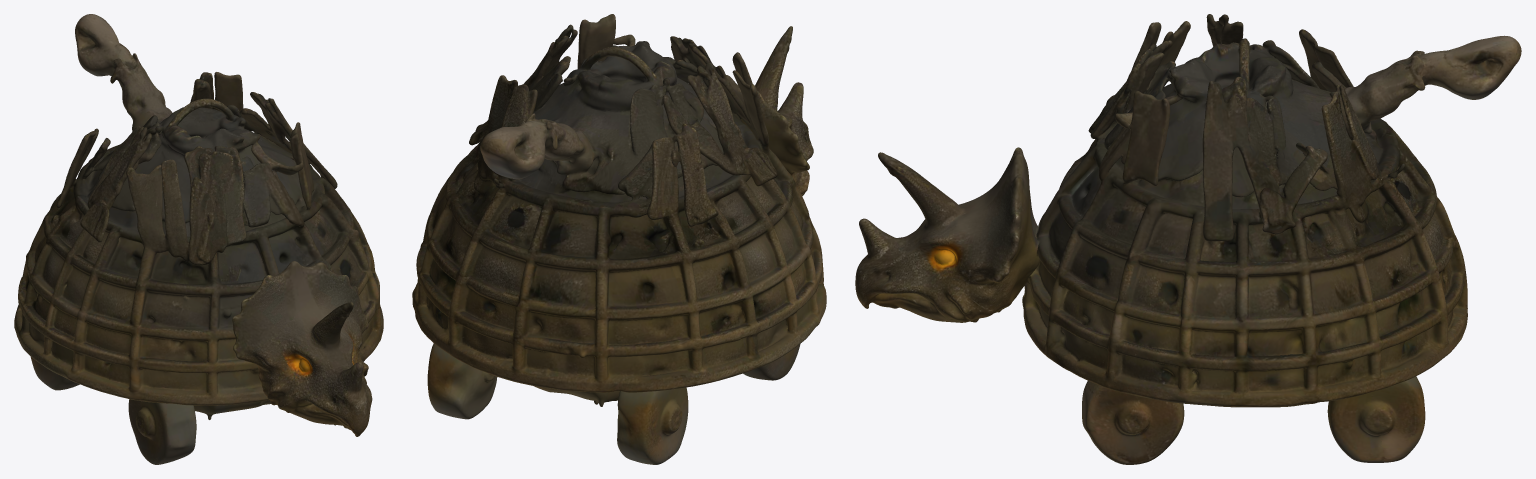
3 views of the same model, side by side, from view 1: azimuth 30°, elevation 25°; view 2: azimuth 150°, elevation 25°; view 3: azimuth 270°, elevation 25° (orthographic). The views are drawn at different scales.
Parts seen in each view (by area): view 1: tripo_node_64da4b27-1f4b-4065-a64a-b0ea60828927; view 2: tripo_node_64da4b27-1f4b-4065-a64a-b0ea60828927; view 3: tripo_node_64da4b27-1f4b-4065-a64a-b0ea60828927.
Boxes of the visible parts, <box> form: tripo_node_64da4b27-1f4b-4065-a64a-b0ea60828927: <box>14,14,383,464</box>; tripo_node_64da4b27-1f4b-4065-a64a-b0ea60828927: <box>412,14,826,464</box>; tripo_node_64da4b27-1f4b-4065-a64a-b0ea60828927: <box>855,14,1521,464</box>.
Size of the model in its own units: 0.6609 by 0.6133 by 1.
1 material, 1 textured.
